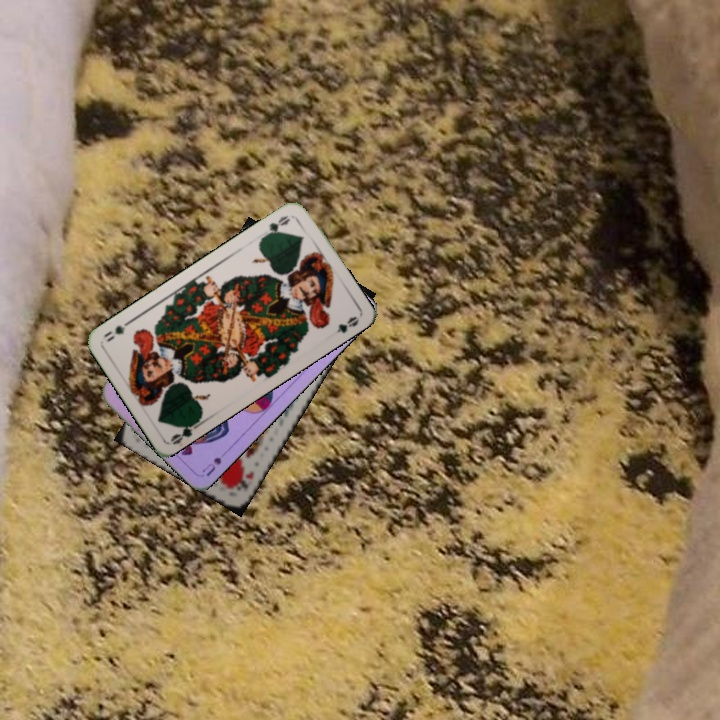GO: (167, 415, 204, 447), (259, 211, 293, 240)
HK: (233, 466, 257, 495)
SU: (198, 453, 224, 479)
